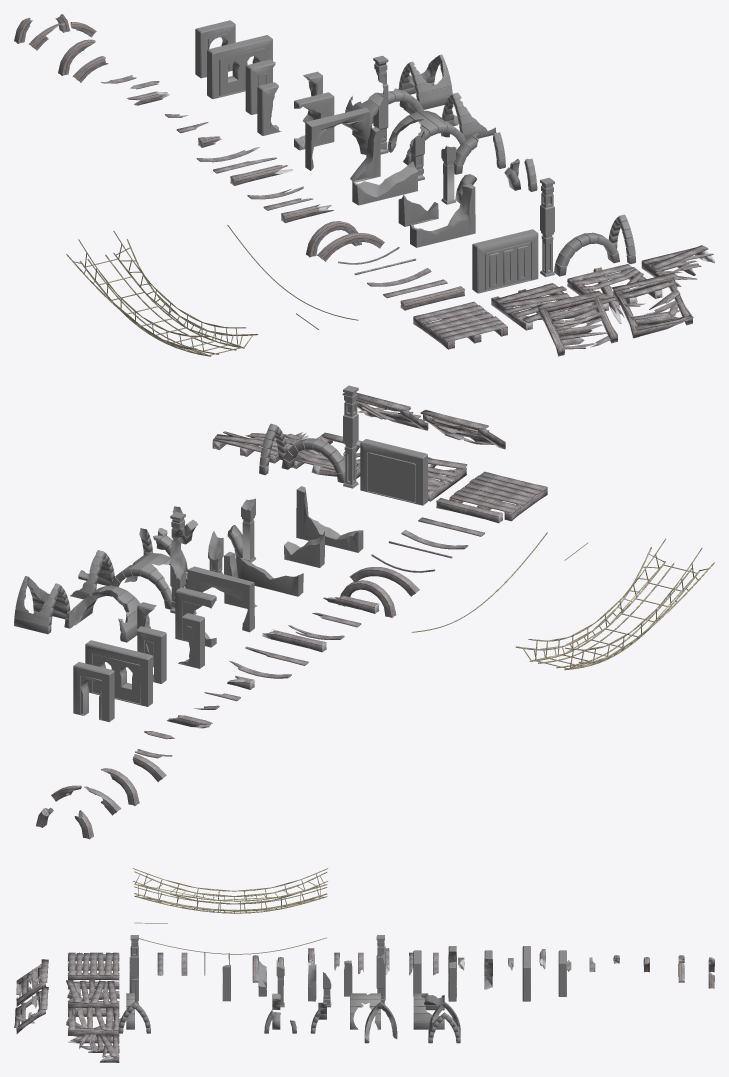
Rendered from WinterAssets_Deco01.fbx.
3 views of the same model, one above another, from view 1: azimuth 30°, elevation 25°; view 2: azimuth 150°, elevation 25°; view 3: azimuth 270°, elevation 25° (orthographic). The views are drawn at different scales.
Visible parts, largest first — view 1: AncientWall_LOD000, WoodPanel00_LOD011, WoodPanel00_LOD010, AncientWall_LOD013, WoodPanel00_LOD0, AncientArc01_LOD018, AncientWall_LOD024, AncientWall_LOD020, AncientWall_LOD022, WoodPanel00_LOD015, AncientArc00_LOD015, AncientPillar00_LOD0 (+26 smaller); view 2: AncientWall_LOD000, AncientWall_LOD013, WoodPanel00_LOD0, AncientArc01_LOD018, AncientWall_LOD014, AncientWall_LOD020, AncientWall_LOD024, WoodPanel00_LOD011, AncientWall_LOD011, AncientPillar00_LOD0, AncientArc00_LOD015, AncientArc00_LOD018 (+18 smaller); view 3: WoodPanel00_LOD0, WoodPanel00_LOD012, WoodPanel00_LOD015, RopeLOD011, WoodPanel00_LOD011, RopeLOD013, AncientArc00_LOD018, WoodPanel00_LOD010, WoodPanel00_LOD021, Line002, AncientArc00_LOD015, WoodPanel00_LOD016 (+17 smaller).
Part boxes in pixels (x1=…): AncientWall_LOD000: x1=472, y1=229, x2=538, y2=293; WoodPanel00_LOD011: x1=536, y1=290, x2=617, y2=356; WoodPanel00_LOD010: x1=611, y1=272, x2=693, y2=338; AncientWall_LOD013: x1=207, y1=35, x2=272, y2=99; WoodPanel00_LOD0: x1=413, y1=301, x2=507, y2=349; AncientArc01_LOD018: x1=398, y1=54, x2=452, y2=109; AncientWall_LOD024: x1=410, y1=183, x2=475, y2=247; AncientWall_LOD020: x1=305, y1=107, x2=370, y2=170; AncientWall_LOD022: x1=352, y1=158, x2=418, y2=205; WoodPanel00_LOD015: x1=567, y1=265, x2=662, y2=323; AncientArc00_LOD015: x1=387, y1=110, x2=465, y2=165; AncientPillar00_LOD0: x1=540, y1=177, x2=554, y2=276; AncientWall_LOD000: x1=360, y1=439, x2=427, y2=505; AncientWall_LOD013: x1=85, y1=640, x2=152, y2=706; WoodPanel00_LOD0: x1=449, y1=471, x2=547, y2=521; AncientArc01_LOD018: x1=14, y1=576, x2=70, y2=634; AncientWall_LOD014: x1=73, y1=662, x2=114, y2=722; AncientWall_LOD020: x1=187, y1=566, x2=254, y2=632; AncientWall_LOD024: x1=296, y1=486, x2=363, y2=552; WoodPanel00_LOD011: x1=420, y1=409, x2=505, y2=449; AncientWall_LOD011: x1=137, y1=602, x2=204, y2=668; AncientPillar00_LOD0: x1=343, y1=385, x2=358, y2=488; AncientArc00_LOD015: x1=110, y1=553, x2=187, y2=609; AncientArc00_LOD018: x1=64, y1=585, x2=140, y2=642; WoodPanel00_LOD0: x1=67, y1=952, x2=119, y2=980; WoodPanel00_LOD012: x1=66, y1=979, x2=119, y2=1008; WoodPanel00_LOD015: x1=66, y1=1007, x2=121, y2=1035; RopeLOD011: x1=134, y1=871, x2=327, y2=913; WoodPanel00_LOD011: x1=16, y1=959, x2=48, y2=1006; RopeLOD013: x1=134, y1=873, x2=325, y2=912; AncientArc00_LOD018: x1=413, y1=993, x2=444, y2=1029; WoodPanel00_LOD010: x1=14, y1=986, x2=48, y2=1033; WoodPanel00_LOD021: x1=66, y1=979, x2=119, y2=1008; Line002: x1=133, y1=868, x2=327, y2=912; AncientArc00_LOD015: x1=350, y1=993, x2=380, y2=1029; WoodPanel00_LOD016: x1=68, y1=1033, x2=119, y2=1062.
Size of what is drawn, in the model's own units: 572 by 136 by 947.
